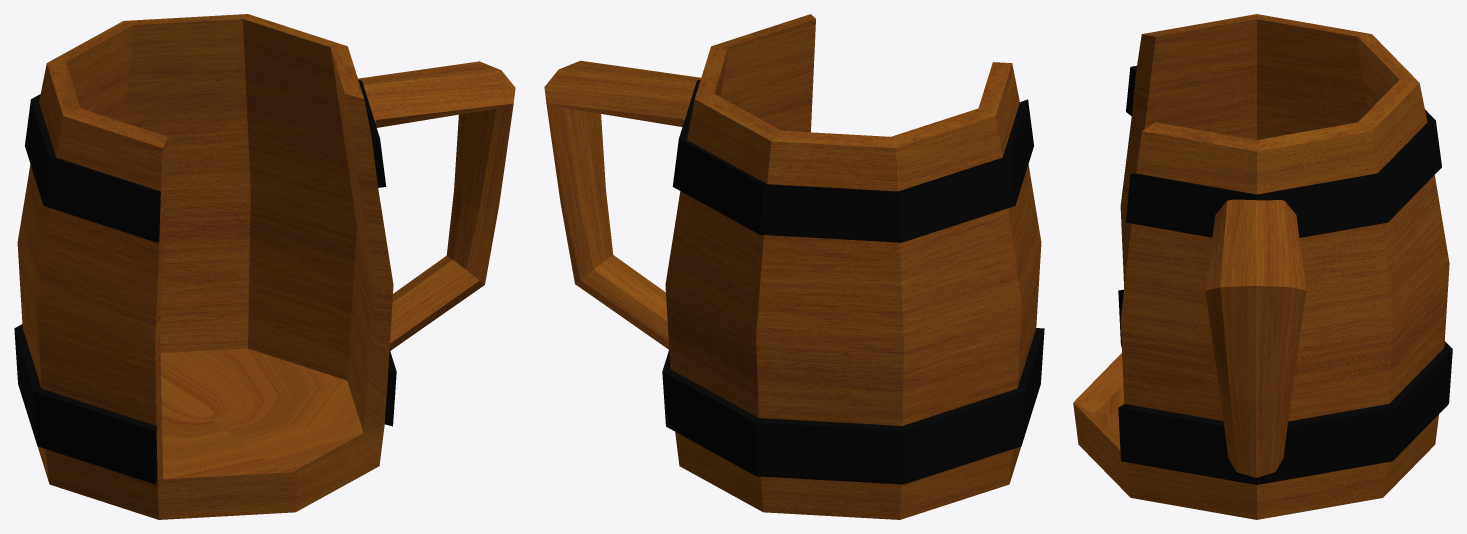
Rendered from beermug_cross_section_R.fbx.
3 views of the same model, side by side, from view 1: azimuth 30°, elevation 25°; view 2: azimuth 150°, elevation 25°; view 3: azimuth 270°, elevation 25° (orthographic).
Visible parts, largest first — view 1: pCylinder2; view 2: pCylinder2; view 3: pCylinder2.
Part boxes in pixels (<box>): pCylinder2: <box>14,14,515,519</box>; pCylinder2: <box>544,14,1044,519</box>; pCylinder2: <box>1073,14,1452,519</box>.
Size of the model in its own units: 3.32 by 2.51 by 2.36.
